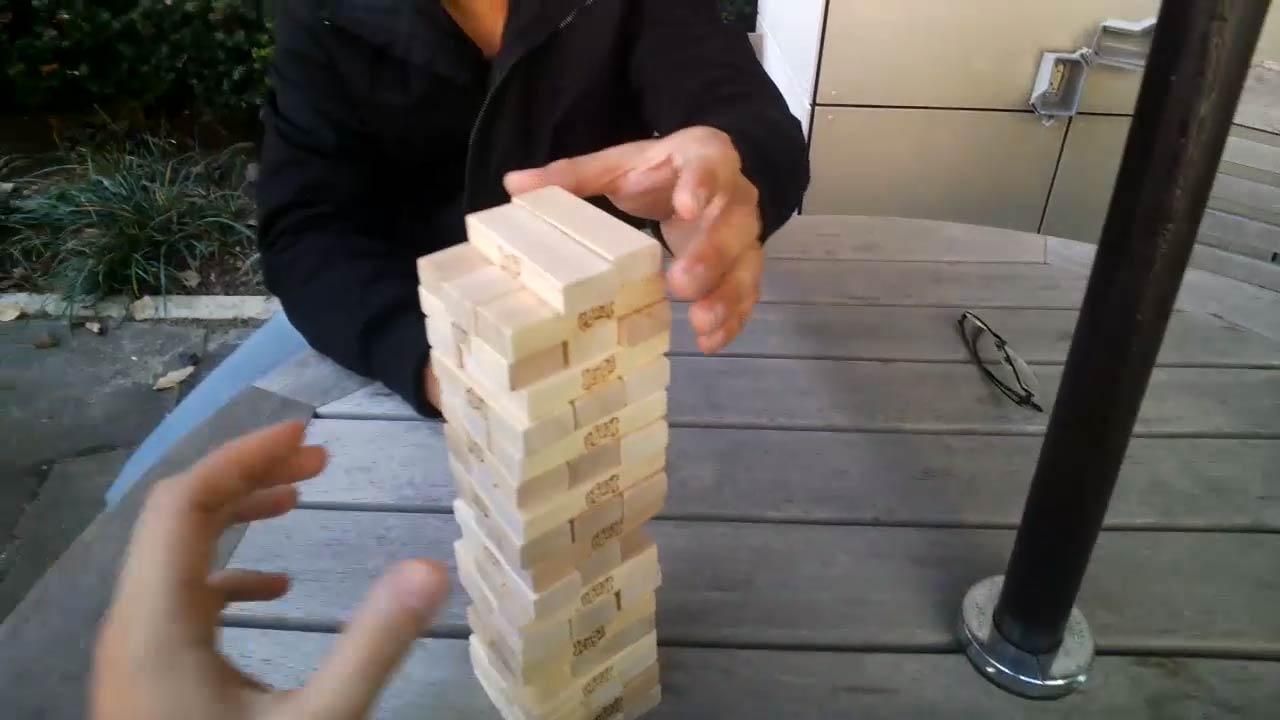hand: (75, 407, 450, 720), (499, 113, 767, 356)
